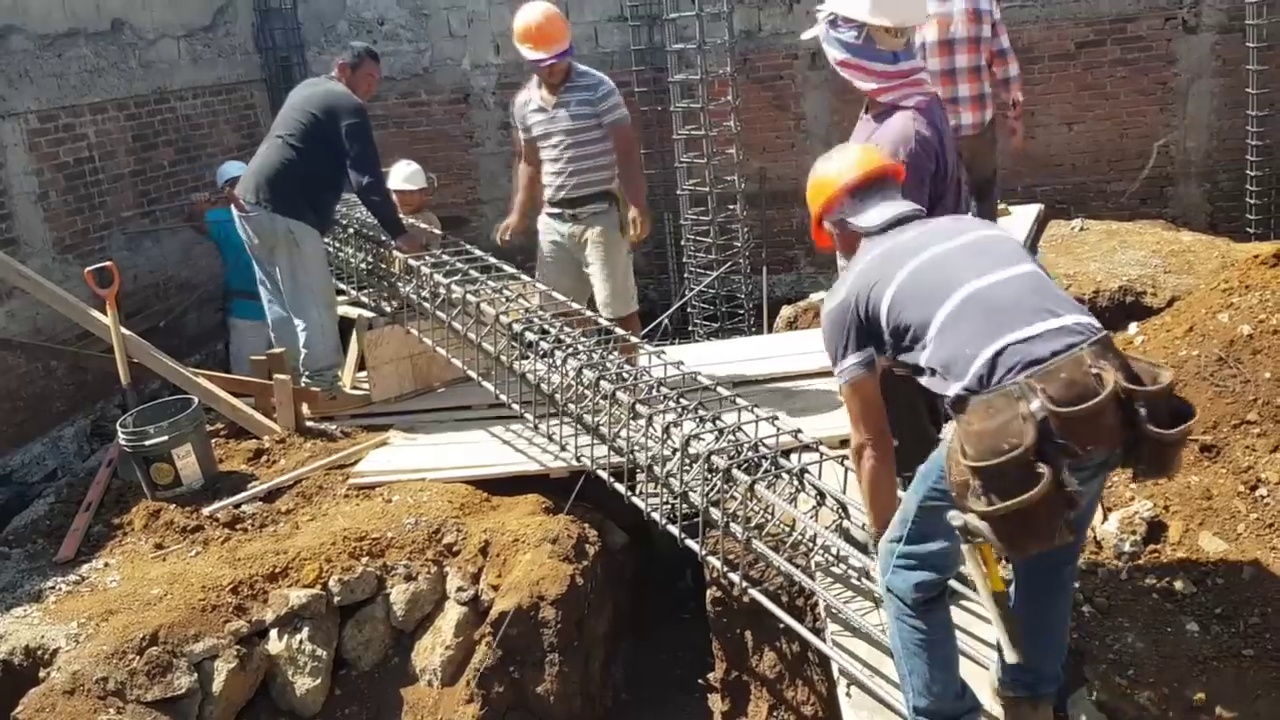helmet: (803, 149, 911, 250), (808, 0, 930, 40), (512, 7, 573, 58), (383, 164, 426, 198), (213, 160, 249, 190)
helmet-off: (323, 43, 382, 103)
helmet-on: (821, 1, 944, 153), (801, 145, 931, 269), (510, 7, 576, 94), (383, 160, 430, 216), (213, 161, 250, 205)
person: (805, 144, 1155, 716), (226, 40, 408, 378), (492, 0, 653, 326), (902, 0, 1026, 225), (187, 160, 272, 384), (375, 152, 445, 251)
